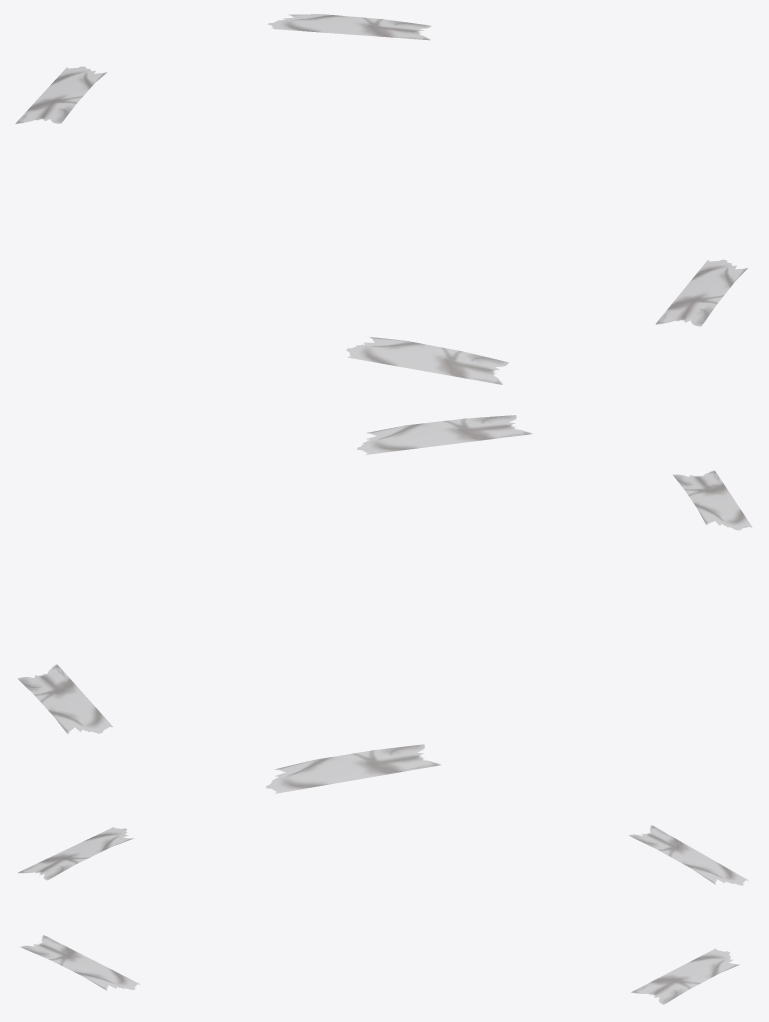
File: tape2.glb
The picture shows the model from 3 angles, top to bottom: view 1: azimuth 30°, elevation 25°; view 2: azimuth 150°, elevation 25°; view 3: azimuth 270°, elevation 25°; orthographic projection. The views are drawn at different scales.
Size of the model in its own units: 17.51 by 0.7599 by 31.38.
1 material, 1 textured.
